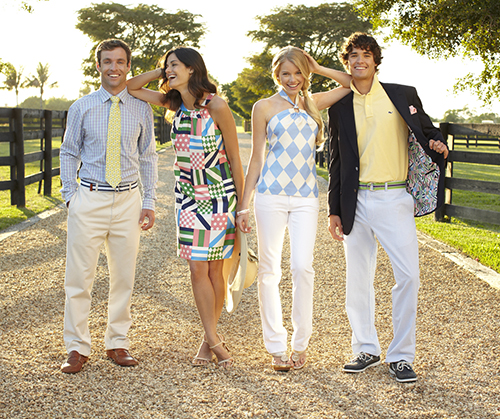Person: (329, 33, 449, 381), (60, 38, 157, 372), (243, 46, 328, 371), (159, 46, 243, 367)
